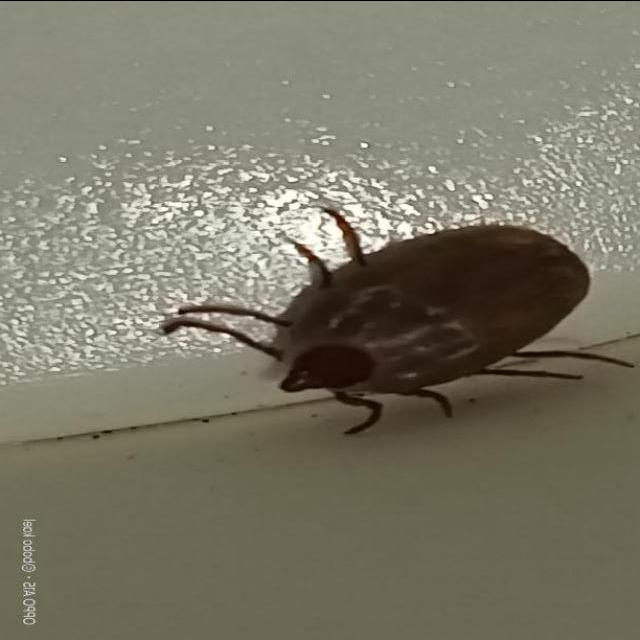Rhipicephalus Sanguineus-F-Fed: (159, 209, 635, 434)
